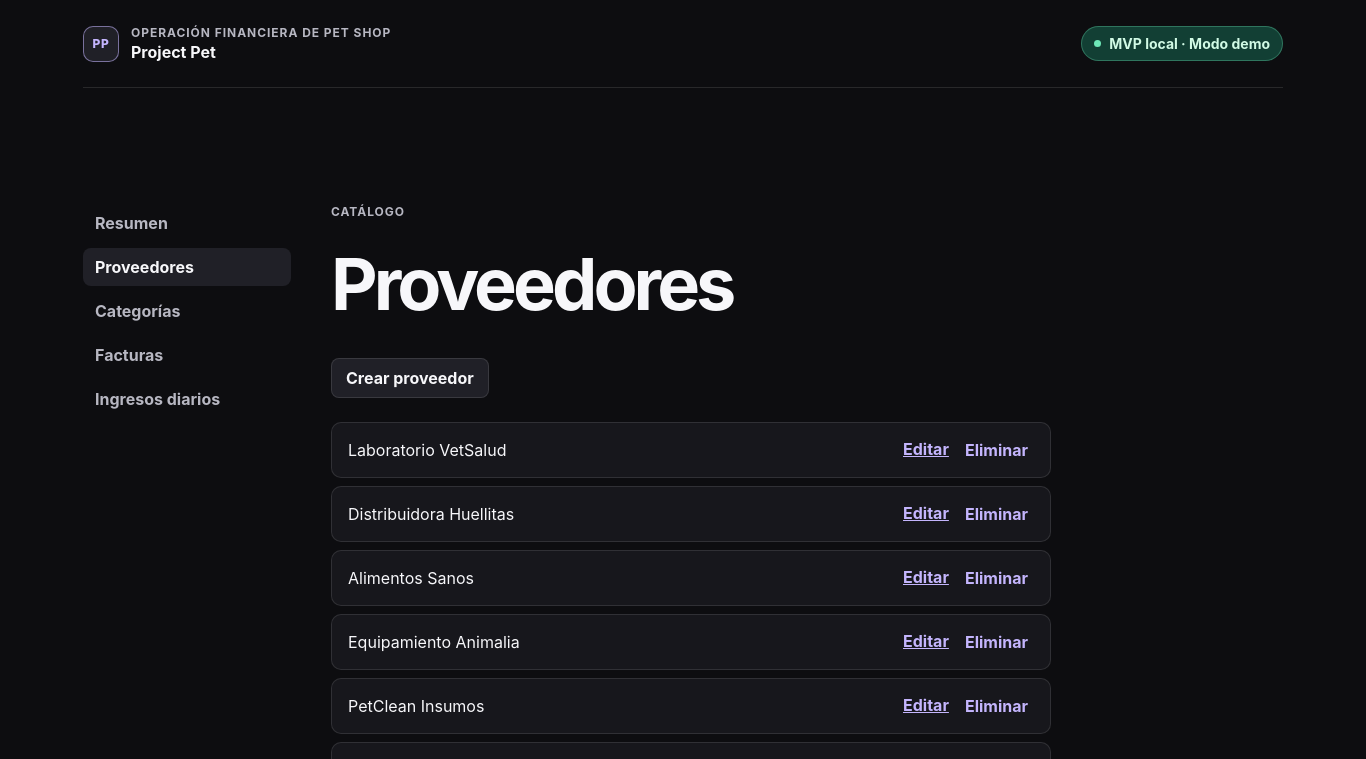
AppRouter › navigates from a list edit link to the pre-filled supplier form
Click the link with aria-label "Editar Laboratorio VetSalud".
click(926, 450)  # box [903,439,949,461]
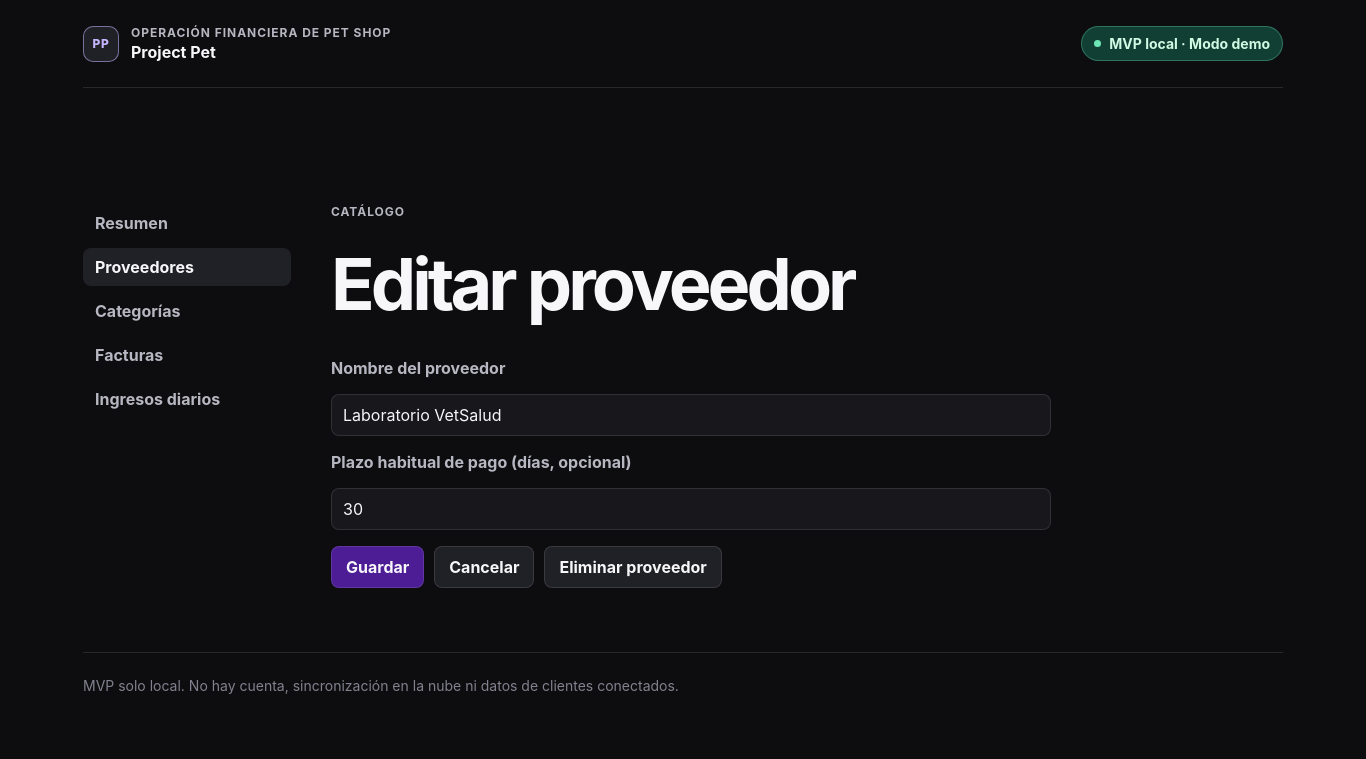
Result: the heading "Editar proveedor" is shown at [331,240,854,327]
Result: the field labelled "Nombre del proveedor" holds "Laboratorio VetSalud" at [331,394,1051,436]
